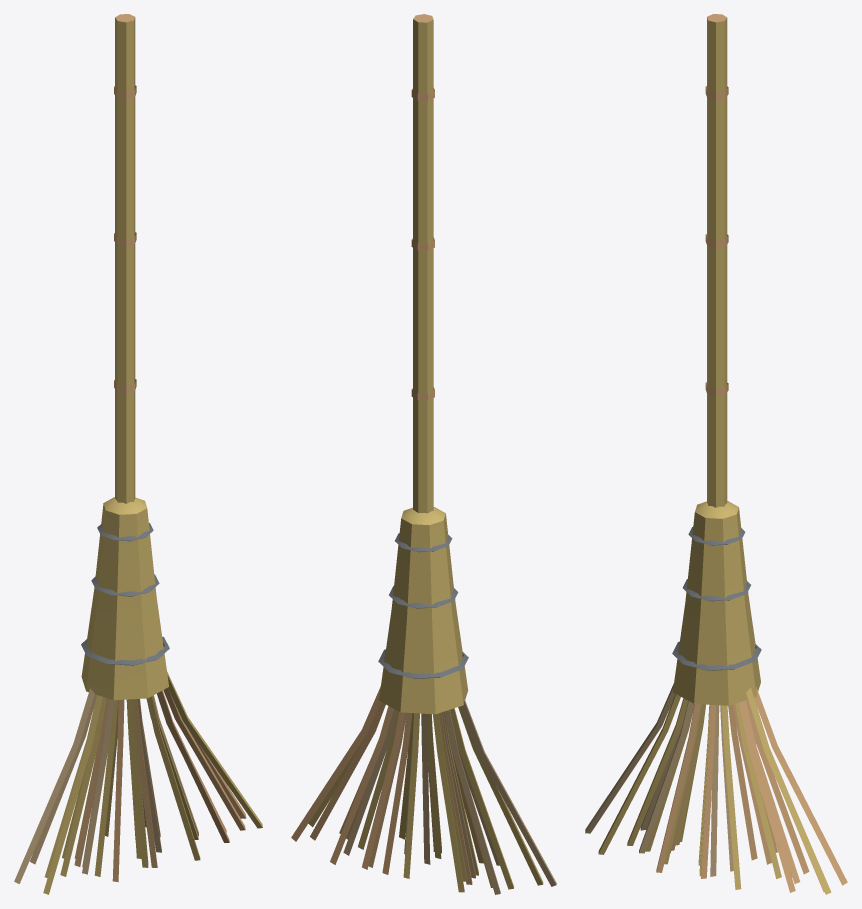
The model's file is SC_Home_Broom_Straw.gltf.
The picture shows the model from 3 angles, left to right: view 1: azimuth 30°, elevation 25°; view 2: azimuth 150°, elevation 25°; view 3: azimuth 330°, elevation 25°; orthographic projection. The views are drawn at different scales.
Visible parts, largest first — view 1: SC_Home_Broom_Straw; view 2: SC_Home_Broom_Straw; view 3: SC_Home_Broom_Straw.
Boxes of the visible parts, x1,y1,x2,y2 form: SC_Home_Broom_Straw: [14, 14, 262, 894]; SC_Home_Broom_Straw: [291, 14, 556, 894]; SC_Home_Broom_Straw: [585, 14, 847, 894].
Bounding box in the file's own units: 0.4388 × 1.43 × 0.1575.
1 material, 1 textured.
